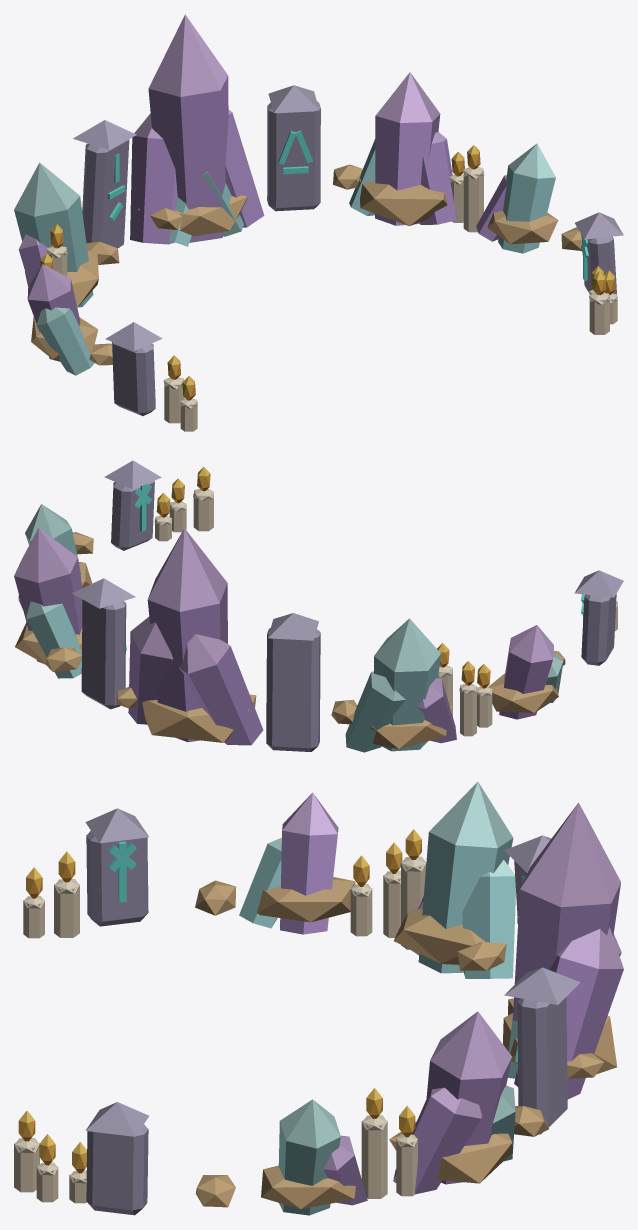
File: habitat_theme_arcane.fbx
The picture shows the model from 3 angles, top to bottom: view 1: azimuth 30°, elevation 25°; view 2: azimuth 150°, elevation 25°; view 3: azimuth 270°, elevation 25°; orthographic projection. The views are drawn at different scales.
Visible parts, largest first — view 1: habitat_theme_arcane; view 2: habitat_theme_arcane; view 3: habitat_theme_arcane.
Boxes of the visible parts, x1,y1,x2,y2 form: habitat_theme_arcane: [14, 14, 623, 431]; habitat_theme_arcane: [14, 460, 623, 752]; habitat_theme_arcane: [14, 782, 623, 1215].
Size of the model in its own units: 7.25 by 2.69 by 5.66.
